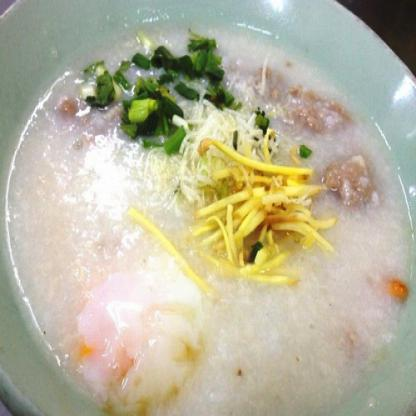Joke: (15, 20, 416, 415)
